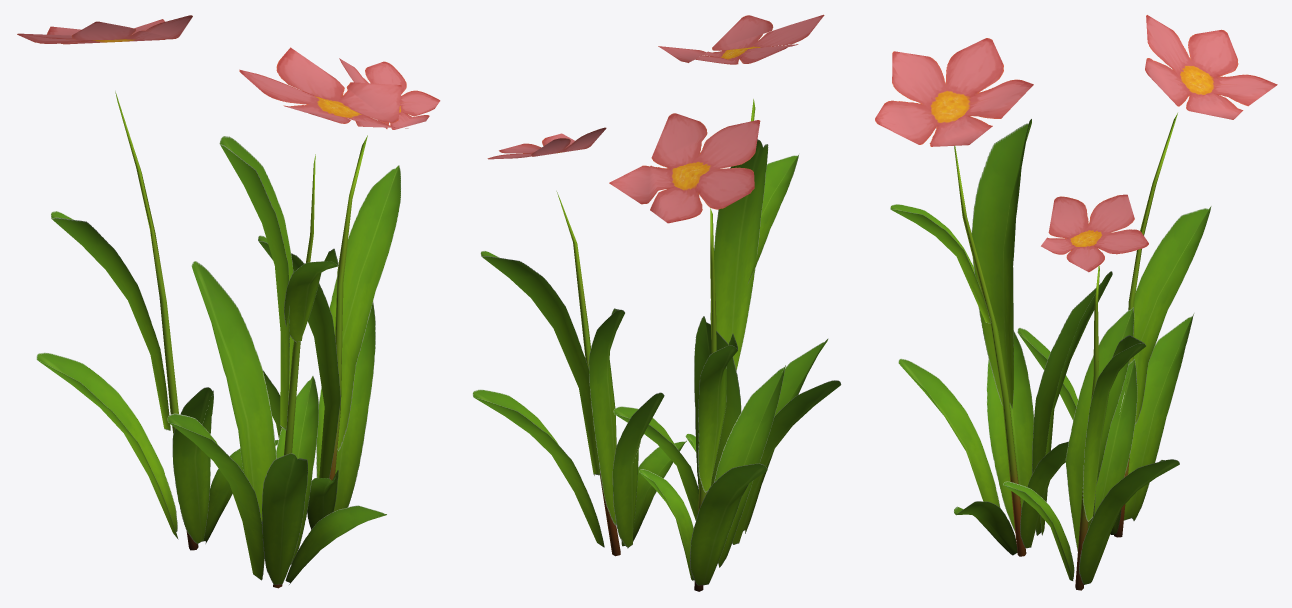
The model's file is Flower_3_Group.gltf.
The picture shows the model from 3 angles, left to right: view 1: azimuth 30°, elevation 25°; view 2: azimuth 150°, elevation 25°; view 3: azimuth 270°, elevation 25°; orthographic projection. The views are drawn at different scales.
Visible parts, largest first — view 1: Flower_3_Group_2, Flower_3_Group_1; view 2: Flower_3_Group_2, Flower_3_Group_1; view 3: Flower_3_Group_2, Flower_3_Group_1.
Boxes of the visible parts, bbox=[...] form: Flower_3_Group_2: bbox=[36, 91, 400, 588]; Flower_3_Group_1: bbox=[17, 15, 440, 129]; Flower_3_Group_2: bbox=[472, 99, 841, 591]; Flower_3_Group_1: bbox=[487, 14, 824, 223]; Flower_3_Group_2: bbox=[890, 113, 1211, 590]; Flower_3_Group_1: bbox=[875, 15, 1277, 272].
Size of the model in its own units: 1.09 by 1.63 by 1.2.
Materials: 2 (2 with a texture image).
